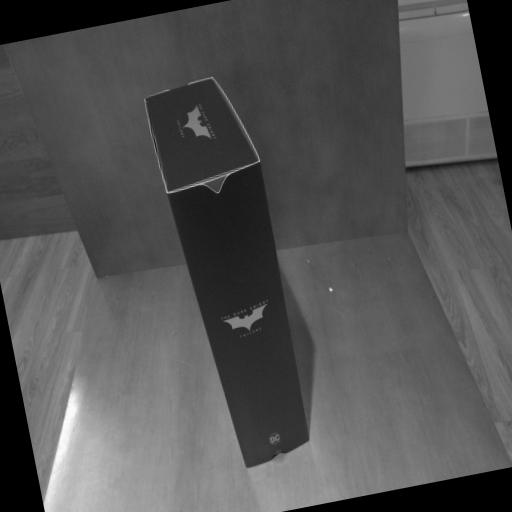catwoman: (142, 68, 318, 472)
